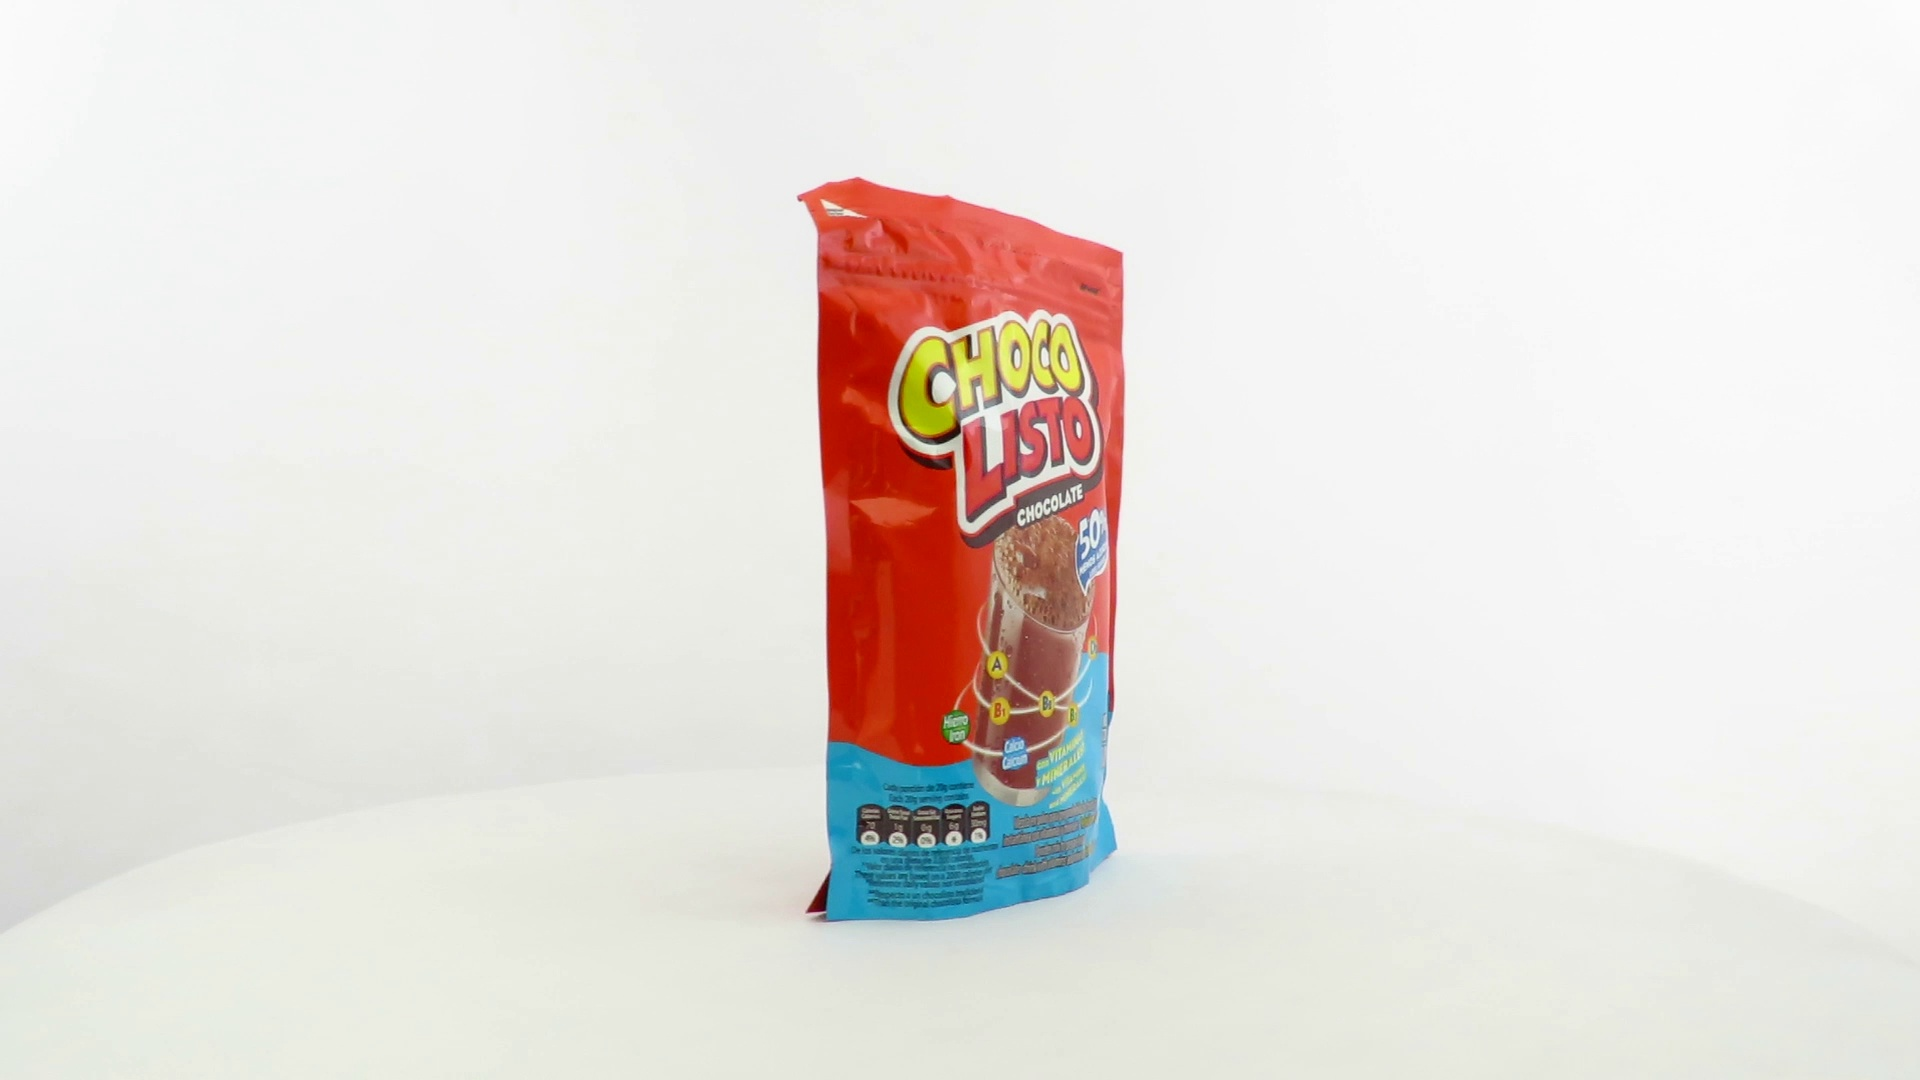COL0170104DYP20000: (793, 171, 1131, 928)
